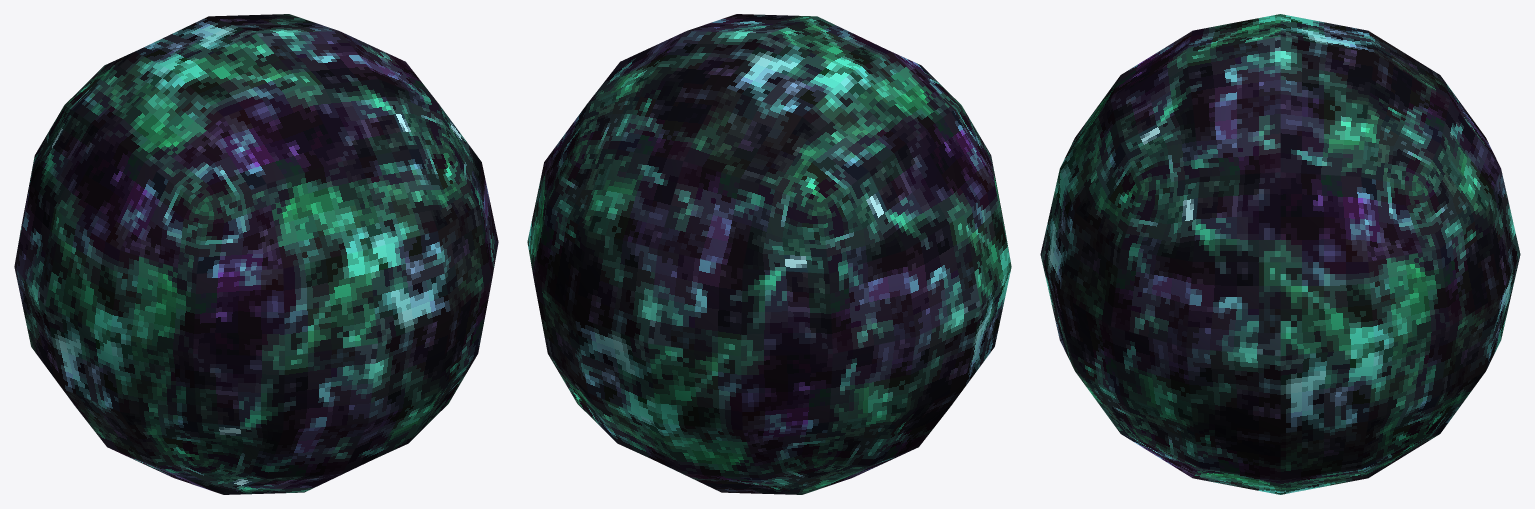
3 renders of one model, left to right at view 1: azimuth 30°, elevation 25°; view 2: azimuth 150°, elevation 25°; view 3: azimuth 270°, elevation 25°, orthographic.
Parts seen in each view (by area): view 1: MN_02; view 2: MN_02; view 3: MN_02.
Part boxes in pixels (left/top/right/bottom): MN_02: left=14, top=14, right=498, bottom=494; MN_02: left=527, top=14, right=1011, bottom=494; MN_02: left=1040, top=14, right=1520, bottom=494.
Size of the model in its own units: 0.4009 by 0.4005 by 0.3996.
1 material, 1 textured.
